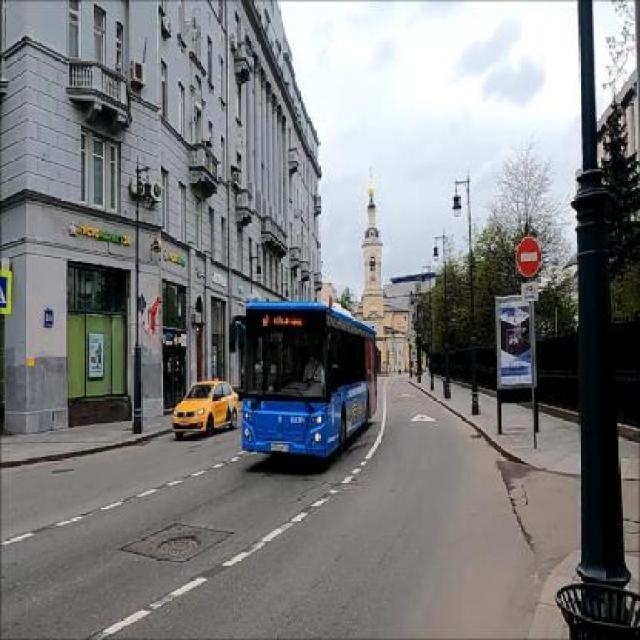Bus: (239, 303, 379, 466)
